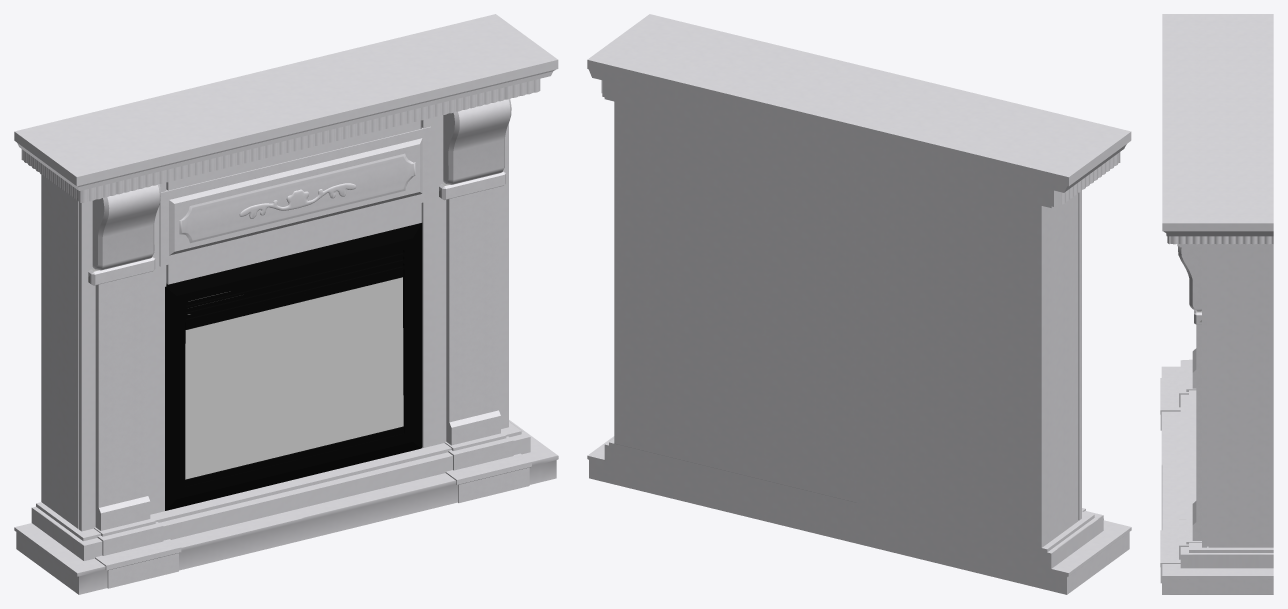
File: Hermes.fbx
3 views of the same model, side by side, from view 1: azimuth 30°, elevation 25°; view 2: azimuth 150°, elevation 25°; view 3: azimuth 270°, elevation 25° (orthographic). The views are drawn at different scales.
Visible parts, largest first — view 1: Cube.048; view 2: Cube.048; view 3: Cube.048.
Boxes of the visible parts, <box> form: Cube.048: <box>14,14,558,594</box>; Cube.048: <box>587,14,1131,594</box>; Cube.048: <box>1160,14,1273,594</box>.
Bounding box in the file's own units: 270 × 224 × 61.8.
Materials: 2 (1 with a texture image).
